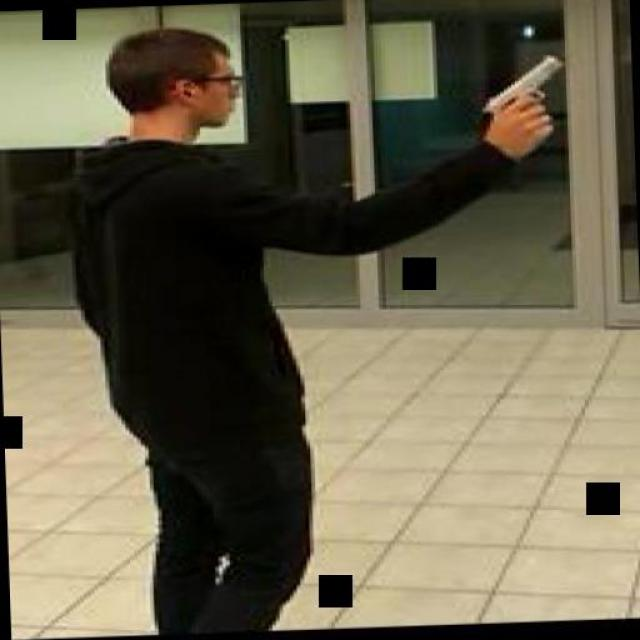gun: (470, 52, 561, 138)
